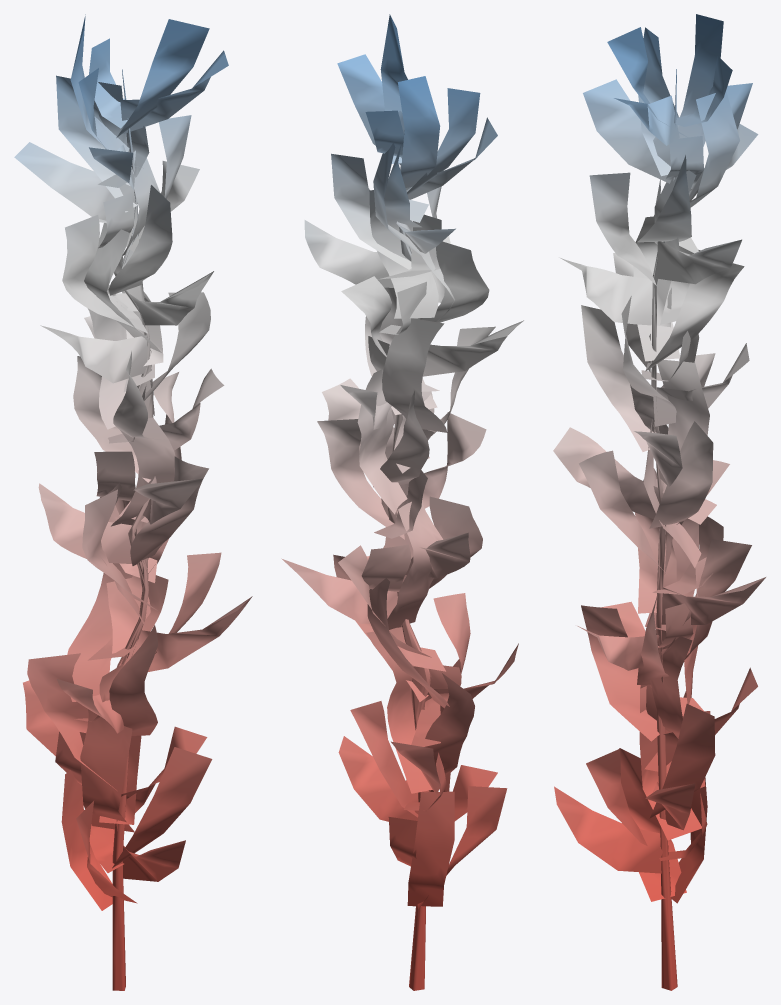
Rendered from seaweed_wave_anim.fbx.
The picture shows the model from 3 angles, left to right: view 1: azimuth 30°, elevation 25°; view 2: azimuth 150°, elevation 25°; view 3: azimuth 270°, elevation 25°; orthographic projection. The views are drawn at different scales.
Parts seen in each view (by area): view 1: SeaWeed06_medium; view 2: SeaWeed06_medium; view 3: SeaWeed06_medium.
Boxes of the visible parts, <box> form: SeaWeed06_medium: <box>14,14,252,990</box>; SeaWeed06_medium: <box>281,14,523,990</box>; SeaWeed06_medium: <box>553,14,765,990</box>.
Size of the model in its own units: 446 by 2176 by 431.
